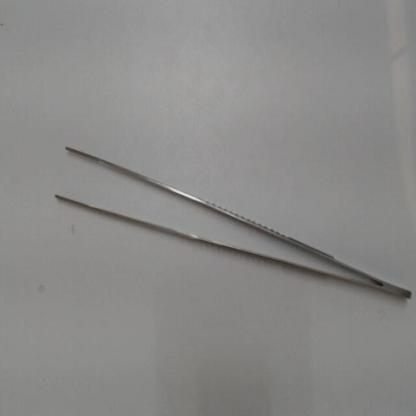DeBakey Dissector: (41, 129, 407, 315)
